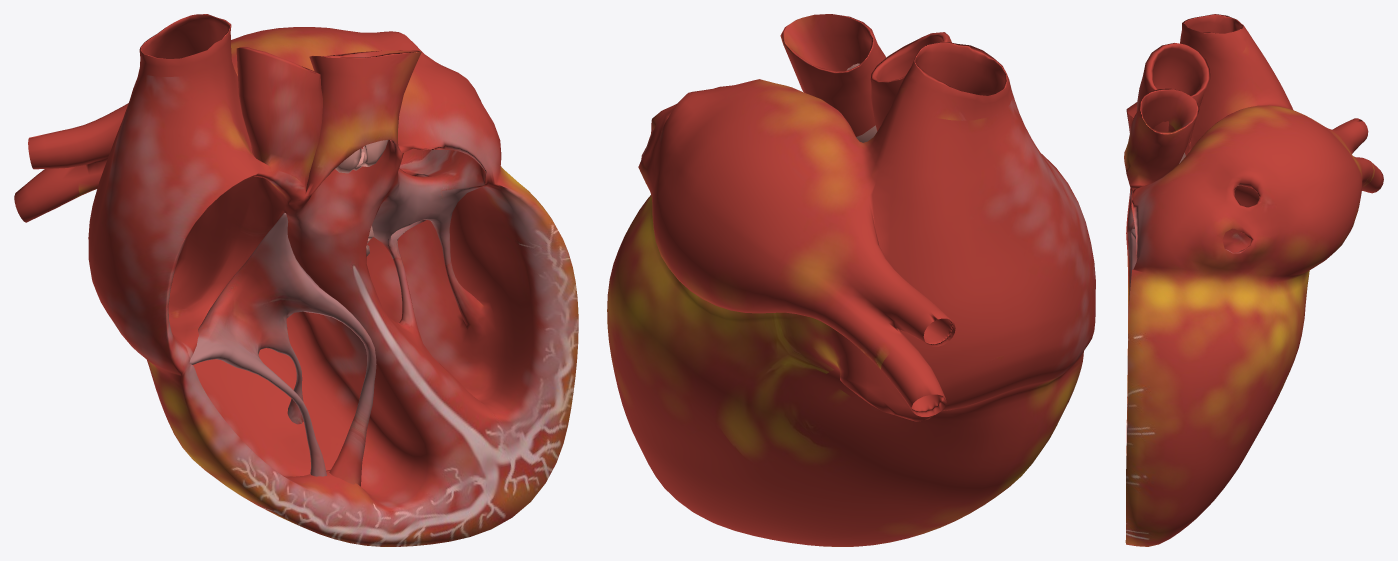
The picture shows the model from 3 angles, left to right: view 1: azimuth 30°, elevation 25°; view 2: azimuth 150°, elevation 25°; view 3: azimuth 270°, elevation 25°; orthographic projection. The views are drawn at different scales.
Parts seen in each view (by area): view 1: heart.001; view 2: heart.001; view 3: heart.001.
Part boxes in pixels (x1,y1,x2,y2): heart.001: (14,14,578,546); heart.001: (607,14,1095,546); heart.001: (1124,14,1383,546).
Size of the model in its own units: 0.114 by 0.132 by 0.0729.
Materials: 1 (1 with a texture image).
